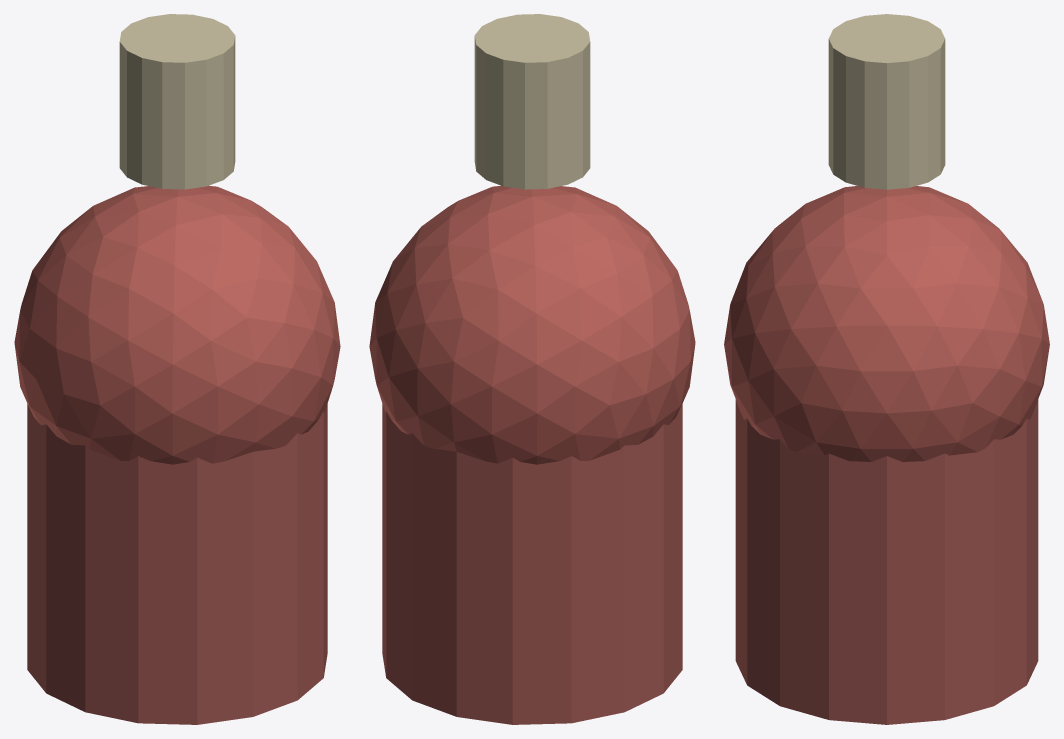
The model's file is potion_bottle_red.glb.
3 renders of one model, left to right at view 1: azimuth 30°, elevation 25°; view 2: azimuth 150°, elevation 25°; view 3: azimuth 270°, elevation 25°, orthographic.
Visible parts, largest first — view 1: world; view 2: world; view 3: world.
Boxes of the visible parts, x1=… form: world: x1=14, y1=14, x2=340, y2=724; world: x1=369, y1=14, x2=695, y2=724; world: x1=724, y1=14, x2=1049, y2=724.
Bounding box in the file's own units: 0.28 × 0.59 × 0.28.
